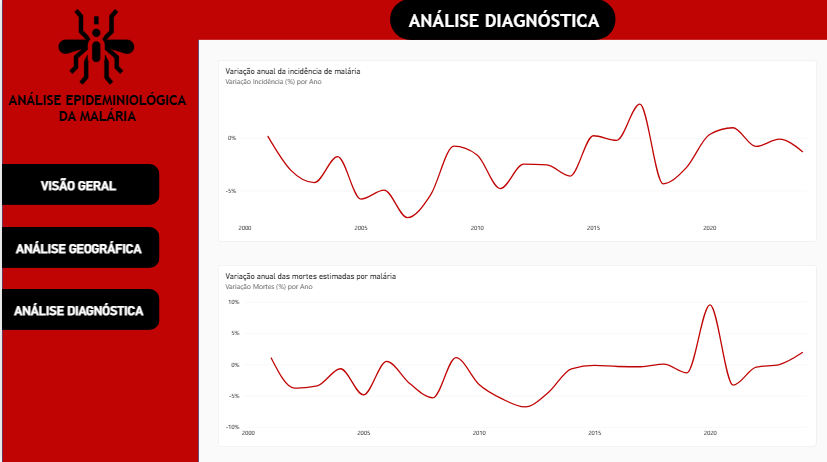

What the dashboard file says about the page in this screenshot:
{"tool":"powerbi","page":{"name":"Análise Diagnóstica","canvas":[1920,1080],"ordinal":2},"visuals":[{"type":"shape","box":[0,0,457.8,1080],"z":0,"group":"g1"},{"type":"group","id":"g1","title":"Grupo 1","box":[0,0,457.4,1080.3],"z":0,"group":"g2"},{"type":"shape","box":[0,384.3,366.3,95.2],"z":0,"group":"g5"},{"type":"shape","box":[0,531.3,366.3,95.2],"z":0,"group":"g4"},{"type":"shape","box":[0,539.8,366.3,95.2],"z":0},{"type":"shape","box":[0,673.5,366.3,95.2],"z":0,"group":"g3"},{"type":"textbox","box":[406.2,0,1515,95],"z":1000,"group":"g2"},{"type":"image","box":[101.6,24.3,233.4,175.6],"z":1000,"group":"g1"},{"type":"textbox","box":[0,415.7,356.6,35.3],"z":1000,"group":"g5"},{"type":"shape","box":[0,561.4,366.3,95.2],"z":1000},{"type":"textbox","box":[0,562.7,356.6,35.3],"z":1000,"group":"g4"},{"type":"textbox","box":[0,704.9,356.6,35.3],"z":1000,"group":"g3"},{"type":"group","id":"g2","title":"Grupo 2","box":[0,0,1921.2,1080.3],"z":2000},{"type":"textbox","box":[0,217.4,443.3,73.9],"z":2000,"group":"g1"},{"type":"textbox","box":[709.8,24.6,916.4,54.1],"z":4000},{"type":"lineChart","title":"Variação anual da incidência de malária","fields":{"Category":["Dim_Ano.TimeDim"],"Y":["Medidas.Variação Incidência (%)"]},"box":[502.5,142.5,1392.5,422.5],"z":5000},{"type":"lineChart","title":"Variação anual das mortes estimadas por malária","fields":{"Category":["Dim_Ano.TimeDim"],"Y":["Medidas.Variação Mortes (%)"]},"box":[502,618,1392,422],"z":6000},{"type":"group","id":"g3","title":"Grupo 3","box":[0,673.5,366.3,95.2],"z":7000},{"type":"group","id":"g4","title":"Grupo 3","box":[0,531.3,366.3,95.2],"z":8000},{"type":"group","id":"g5","title":"Grupo 3","box":[0,384.3,366.3,95.2],"z":9000},{"type":"actionButton","box":[0,525,367.5,102.5],"z":10000},{"type":"actionButton","box":[0,385,367.5,95],"z":11000},{"type":"shape","box":[903.3,0,524.6,95.1],"z":14001,"group":"g2"}]}

Visuals, with their boxes in screenshot pixels (x1, y1, x2, y2), scaled from the page's 1920x1080 canvas onto the 827x462 screenshot:
shape: <region>0, 0, 197, 461</region>
"Grupo 1" group: <region>0, 0, 197, 461</region>
shape: <region>0, 164, 158, 205</region>
shape: <region>0, 227, 158, 268</region>
shape: <region>0, 231, 158, 272</region>
shape: <region>0, 288, 158, 329</region>
textbox: <region>175, 0, 826, 41</region>
image: <region>44, 10, 144, 86</region>
textbox: <region>0, 178, 154, 193</region>
shape: <region>0, 240, 158, 281</region>
textbox: <region>0, 241, 154, 256</region>
textbox: <region>0, 302, 154, 317</region>
"Grupo 2" group: <region>0, 0, 826, 461</region>
textbox: <region>0, 93, 191, 125</region>
textbox: <region>306, 11, 700, 34</region>
"Variação anual da incidência de malária" lineChart: <region>216, 61, 816, 242</region>
"Variação anual das mortes estimadas por malária" lineChart: <region>216, 264, 816, 445</region>
"Grupo 3" group: <region>0, 288, 158, 329</region>
"Grupo 3" group: <region>0, 227, 158, 268</region>
"Grupo 3" group: <region>0, 164, 158, 205</region>
actionButton: <region>0, 225, 158, 268</region>
actionButton: <region>0, 165, 158, 205</region>
shape: <region>389, 0, 615, 41</region>
